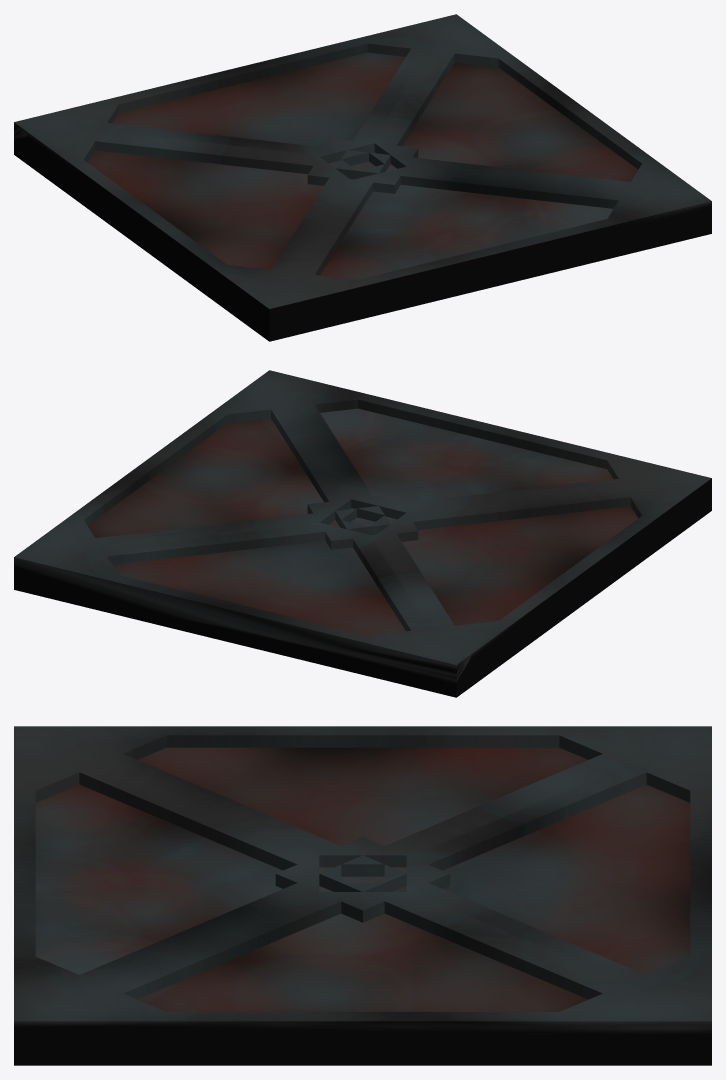
The model's file is wallUV.glb.
3 renders of one model, top to bottom at view 1: azimuth 30°, elevation 25°; view 2: azimuth 150°, elevation 25°; view 3: azimuth 270°, elevation 25°, orthographic. The views are drawn at different scales.
Parts seen in each view (by area): view 1: Cube; view 2: Cube; view 3: Cube.
Boxes of the visible parts, x1=… form: Cube: x1=14, y1=14, x2=711, y2=341; Cube: x1=14, y1=370, x2=711, y2=697; Cube: x1=14, y1=726, x2=711, y2=1065.
Bounding box in the file's own units: 2 × 0.1409 × 2.
Materials: 1 (1 with a texture image).
